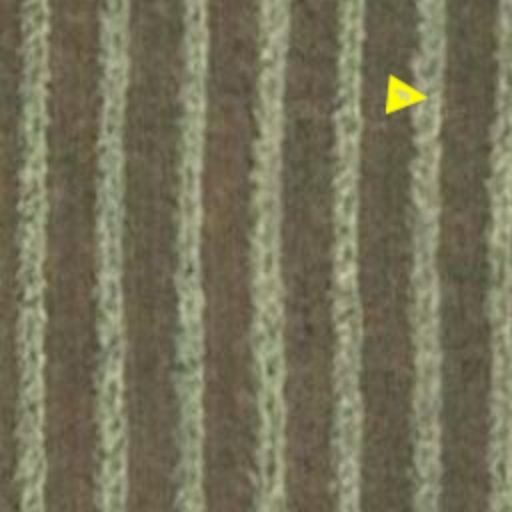triangle: (384, 72, 432, 120)
